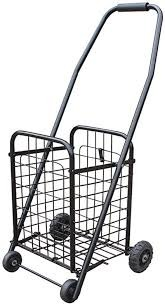with_basket: (1, 1, 163, 287)
